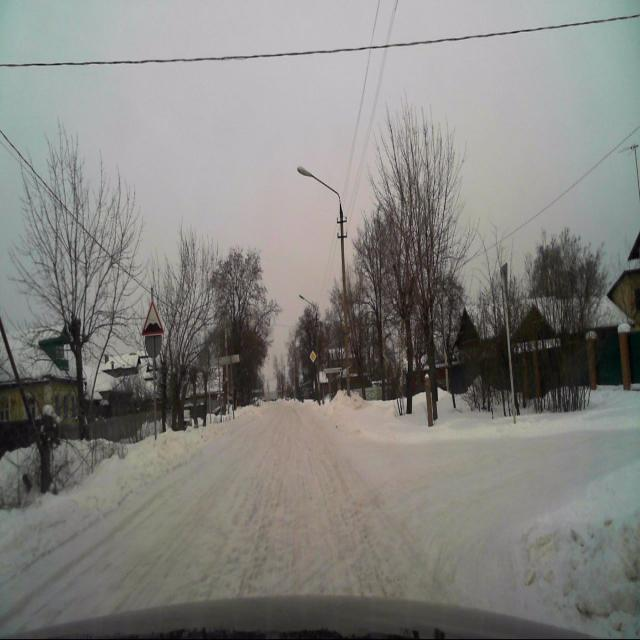road sign: (143, 300, 165, 335)
